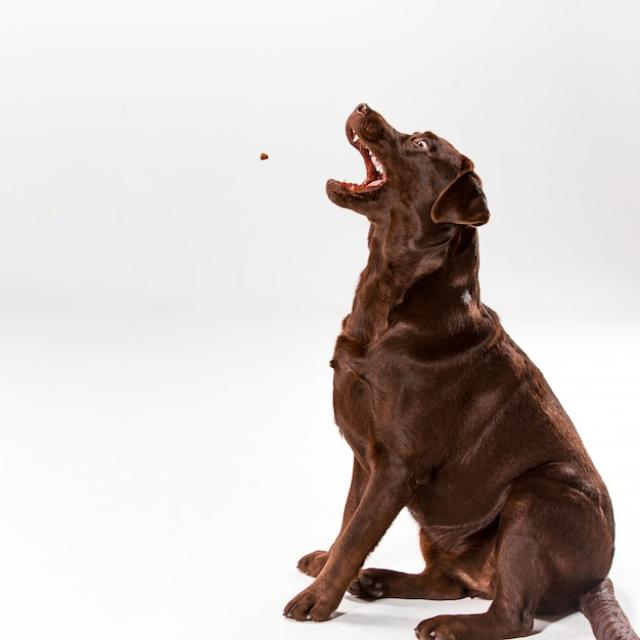Dog: (283, 100, 640, 640)
